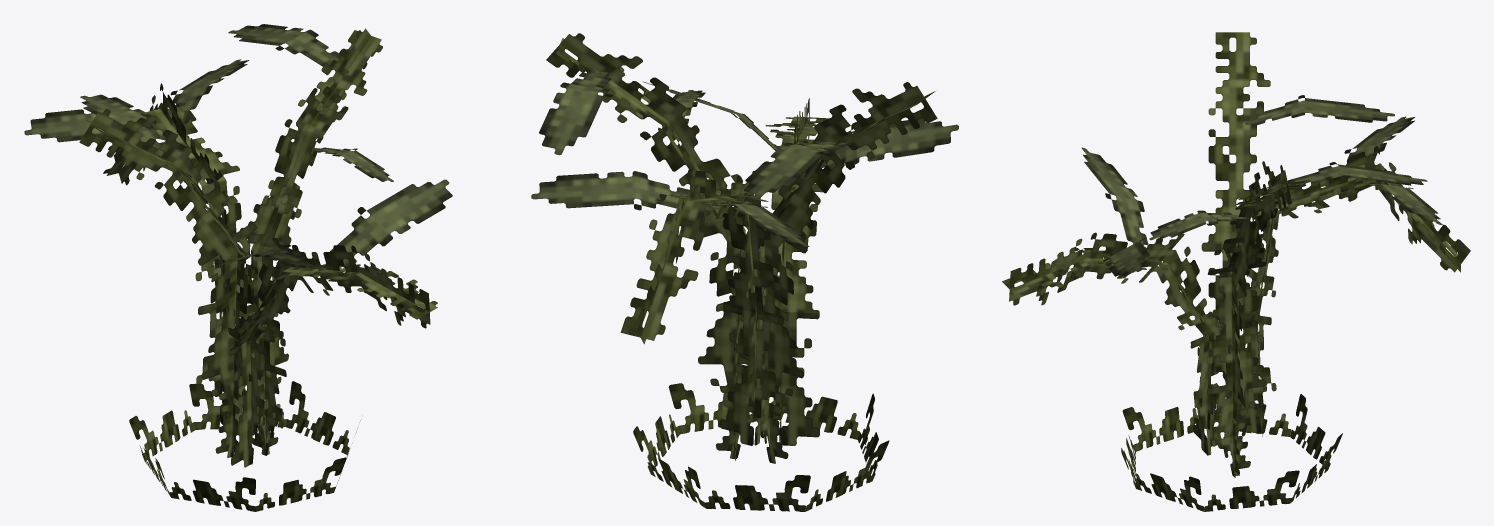
Rendered from ElectroFern.fbx.
3 views of the same model, side by side, from view 1: azimuth 30°, elevation 25°; view 2: azimuth 150°, elevation 25°; view 3: azimuth 270°, elevation 25° (orthographic). The views are drawn at different scales.
Parts seen in each view (by area): view 1: ElectroFern; view 2: ElectroFern; view 3: ElectroFern.
Part boxes in pixels (bbox=[...]): ElectroFern: bbox=[24, 24, 452, 511]; ElectroFern: bbox=[531, 33, 958, 511]; ElectroFern: bbox=[1002, 32, 1470, 511].
Bounding box in the file's own units: 98.43 × 110 × 122.
